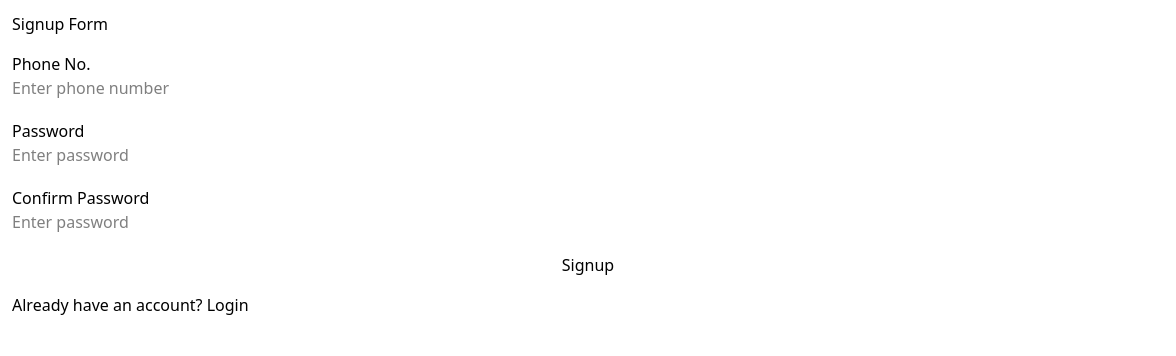
Scenario: Signup Component › shows validation error when phone number is missing
Click the button "Signup".
click(588, 265)  # box [12, 253, 1164, 277]
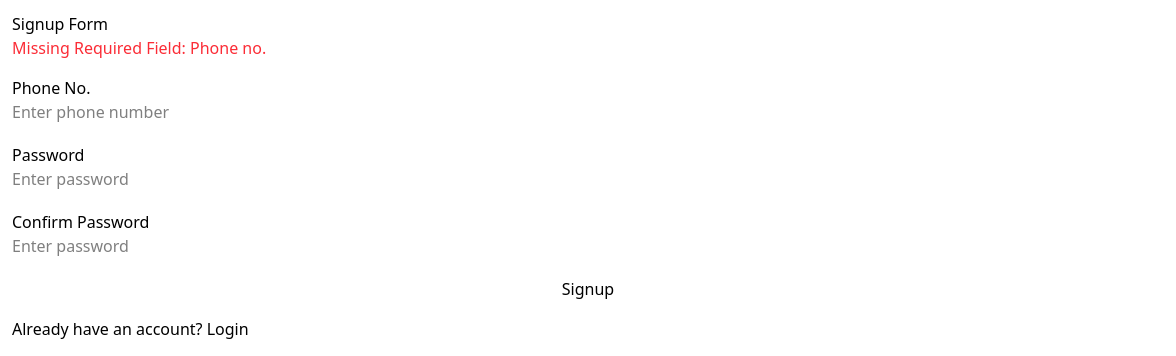
Expected: the text "Missing Required Field: Phone no." is shown, [12, 37, 266, 59]
